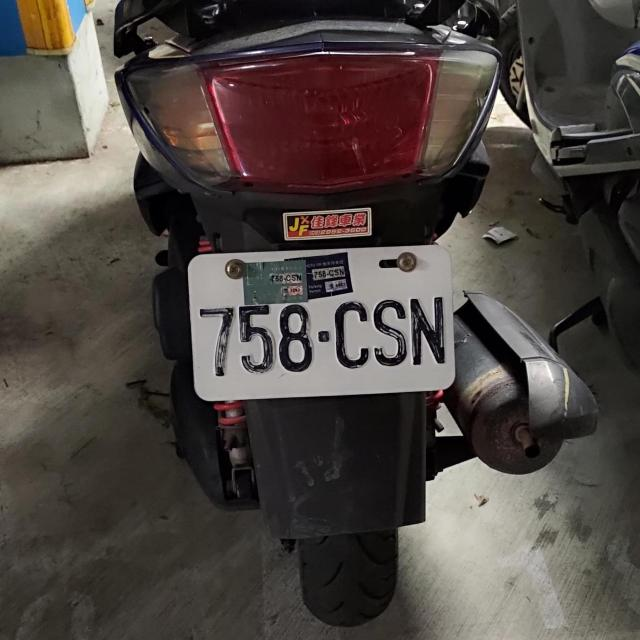W: (183, 245, 459, 401)
